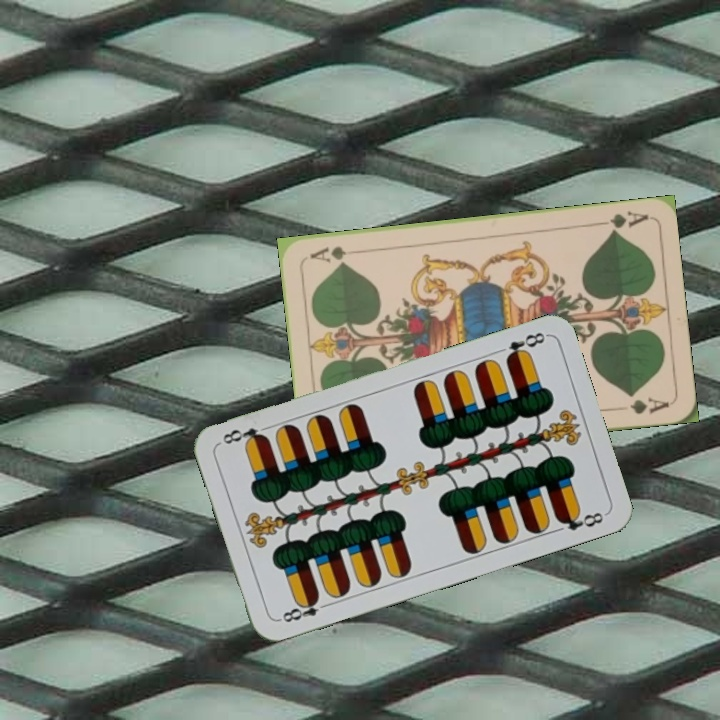E8: (274, 592, 332, 625), (502, 328, 549, 364)
GA: (591, 206, 651, 236)
